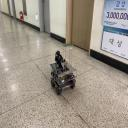cart: (50, 62, 76, 95)
